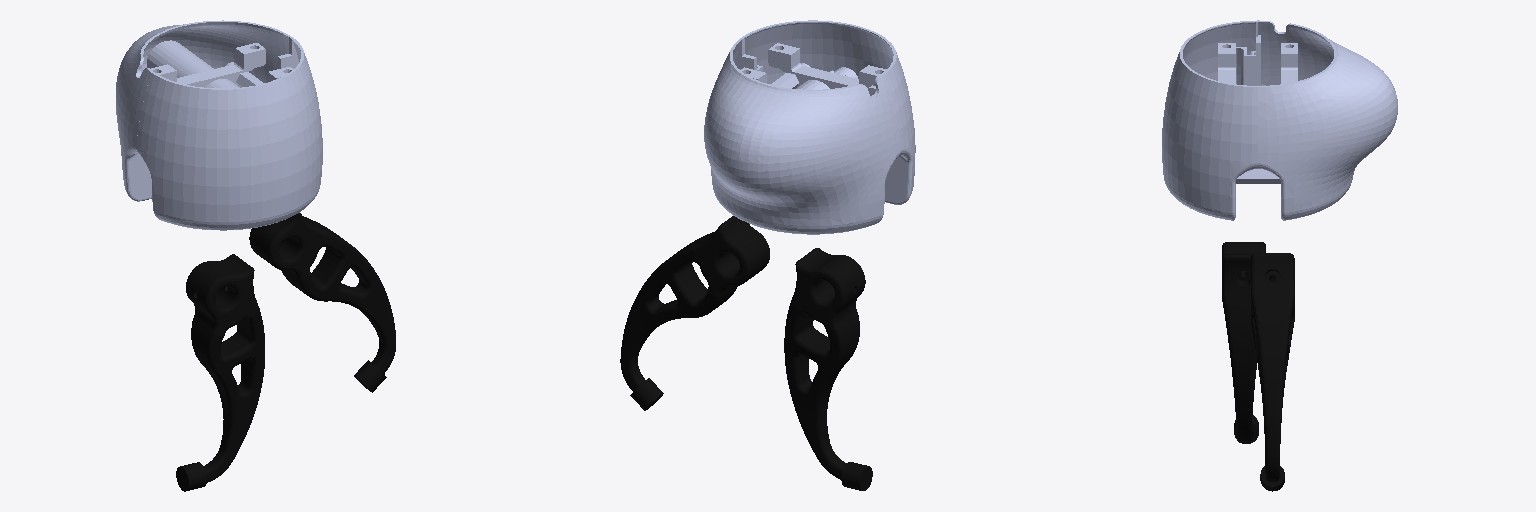
The robot description file, URDF, robot "mover6_gripper":
<?xml version="1.0" encoding="utf-8"?>
<!-- This URDF was automatically created by SolidWorks to URDF Exporter! Originally created by [author] ([email redacted]) 
     Commit Version: 1.6.0-4-g7f85cfe  Build Version: 1.6.7995.38578
     For more information, please see http://wiki.ros.org/sw_urdf_exporter -->
<robot
  name="mover6_gripper">
  <link
    name="base_link">
    <inertial>
      <origin
        xyz="0.000934588866072246 -0.0222630228529103 -0.00210550172623832"
        rpy="0 0 0" />
      <mass
        value="0.0481254395674383" />
      <inertia
        ixx="9.54960961421725E-06"
        ixy="4.49890326524257E-08"
        ixz="-1.3609823183999E-08"
        iyy="1.23652633439236E-05"
        iyz="3.235934269188E-07"
        izz="1.49441831698015E-05" />
    </inertial>
    <visual>
      <origin
        xyz="0 0 0"
        rpy="0 0 0" />
      <geometry>
        <mesh
          filename="package://mover6_gripper/meshes/base_link.STL" />
      </geometry>
      <material
        name="">
        <color
          rgba="0.792156862745098 0.819607843137255 0.933333333333333 1" />
      </material>
    </visual>
    <collision>
      <origin
        xyz="0 0 0"
        rpy="0 0 0" />
      <geometry>
        <mesh
          filename="package://mover6_gripper/meshes/base_link.STL" />
      </geometry>
    </collision>
  </link>
  <link
    name="gripper_a">
    <inertial>
      <origin
        xyz="0.015219 -0.0043699 0.0050001"
        rpy="0 0 0" />
      <mass
        value="0.009672" />
      <inertia
        ixx="3.6658E-06"
        ixy="1.9229E-07"
        ixz="1.2945E-11"
        iyy="5.2752E-07"
        iyz="-2.2407E-11"
        izz="3.9396E-06" />
    </inertial>
    <visual>
      <origin
        xyz="0 0 0"
        rpy="0 0 0" />
      <geometry>
        <mesh
          filename="package://mover6_gripper/meshes/gripper_a.STL" />
      </geometry>
      <material
        name="">
        <color
          rgba="0.10196 0.10196 0.10196 1" />
      </material>
    </visual>
    <collision>
      <origin
        xyz="0 0 0"
        rpy="0 0 0" />
      <geometry>
        <mesh
          filename="package://mover6_gripper/meshes/gripper_a.STL" />
      </geometry>
    </collision>
  </link>
  <joint
    name="joint_a"
    type="revolute">
    <origin
      xyz="-0.0055607 -0.0041434 -0.04688"
      rpy="1.5708 -0.33752 3.1416" />
    <parent
      link="base_link" />
    <child
      link="gripper_a" />
    <axis
      xyz="0 0 0" />
    <limit
      lower="0"
      upper="0"
      effort="0"
      velocity="0" />
  </joint>
  <link
    name="gripper_b">
    <inertial>
      <origin
        xyz="0.015219 -0.0043699 0.0050001"
        rpy="0 0 0" />
      <mass
        value="0.009672" />
      <inertia
        ixx="3.6658E-06"
        ixy="1.9229E-07"
        ixz="1.2945E-11"
        iyy="5.2752E-07"
        iyz="-2.2407E-11"
        izz="3.9396E-06" />
    </inertial>
    <visual>
      <origin
        xyz="0 0 0"
        rpy="0 0 0" />
      <geometry>
        <mesh
          filename="package://mover6_gripper/meshes/gripper_b.STL" />
      </geometry>
      <material
        name="">
        <color
          rgba="0.10196 0.10196 0.10196 1" />
      </material>
    </visual>
    <collision>
      <origin
        xyz="0 0 0"
        rpy="0 0 0" />
      <geometry>
        <mesh
          filename="package://mover6_gripper/meshes/gripper_b.STL" />
      </geometry>
    </collision>
  </link>
  <joint
    name="joint_b"
    type="revolute">
    <origin
      xyz="0.0055607 0.005 -0.04688"
      rpy="1.5708 -0.33752 0" />
    <parent
      link="base_link" />
    <child
      link="gripper_b" />
    <axis
      xyz="0 0 0" />
    <limit
      lower="0"
      upper="0"
      effort="0"
      velocity="0" />
  </joint>
</robot>

--- What the picture shows (computed from the rendered views, not written in the file) ---
3 views of the same robot in one strip: view 1: azimuth 30°, elevation 25°; view 2: azimuth 150°, elevation 25°; view 3: azimuth 270°, elevation 25° (orthographic).
Robot: mover6_gripper — 3 links, 2 joints (2 revolute); root link base_link; default pose: every joint at zero.
Links seen in each view (by area): view 1: base_link, gripper_a, gripper_b; view 2: base_link, gripper_a, gripper_b; view 3: base_link, gripper_b, gripper_a.
Boxes of the visible links, x1,y1,x2,y2 form: base_link: (116,20,322,230); gripper_a: (176,254,264,491); gripper_b: (249,213,395,392); base_link: (704,20,915,234); gripper_a: (784,248,872,490); gripper_b: (620,216,769,410); base_link: (1162,20,1397,220); gripper_b: (1251,253,1294,491); gripper_a: (1222,242,1265,443).
Bounding box of the posed robot: 0.1031 × 0.0827 × 0.1557 m (x, y, z).
3 mesh visuals loaded from 3 distinct referenced files (3 binary STL).